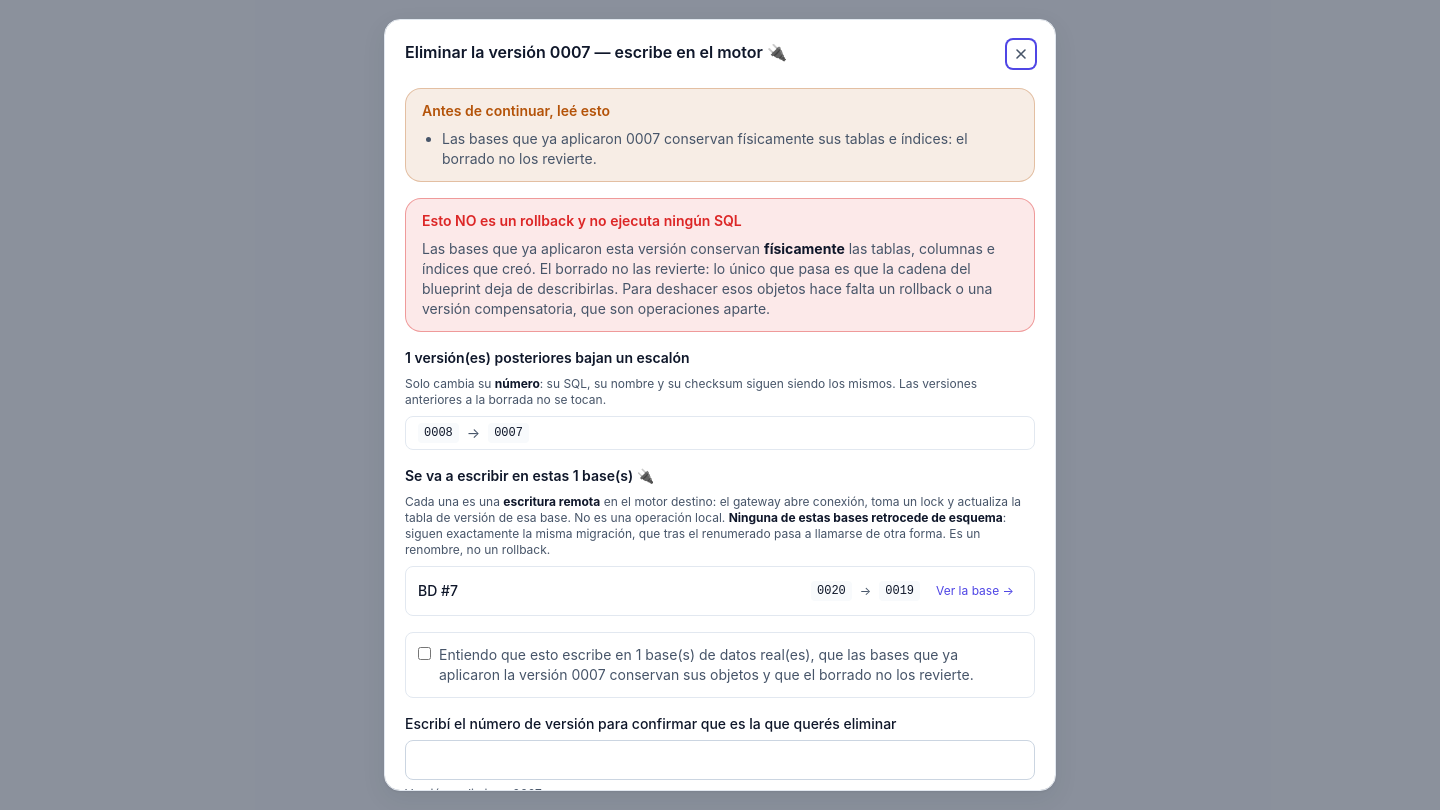
MigrationDeletePlanDialog › un 422 sin `code` dice que el parque cambió, sin culpar al operador
Click the checkbox at (424, 654), box [418,647,431,660]
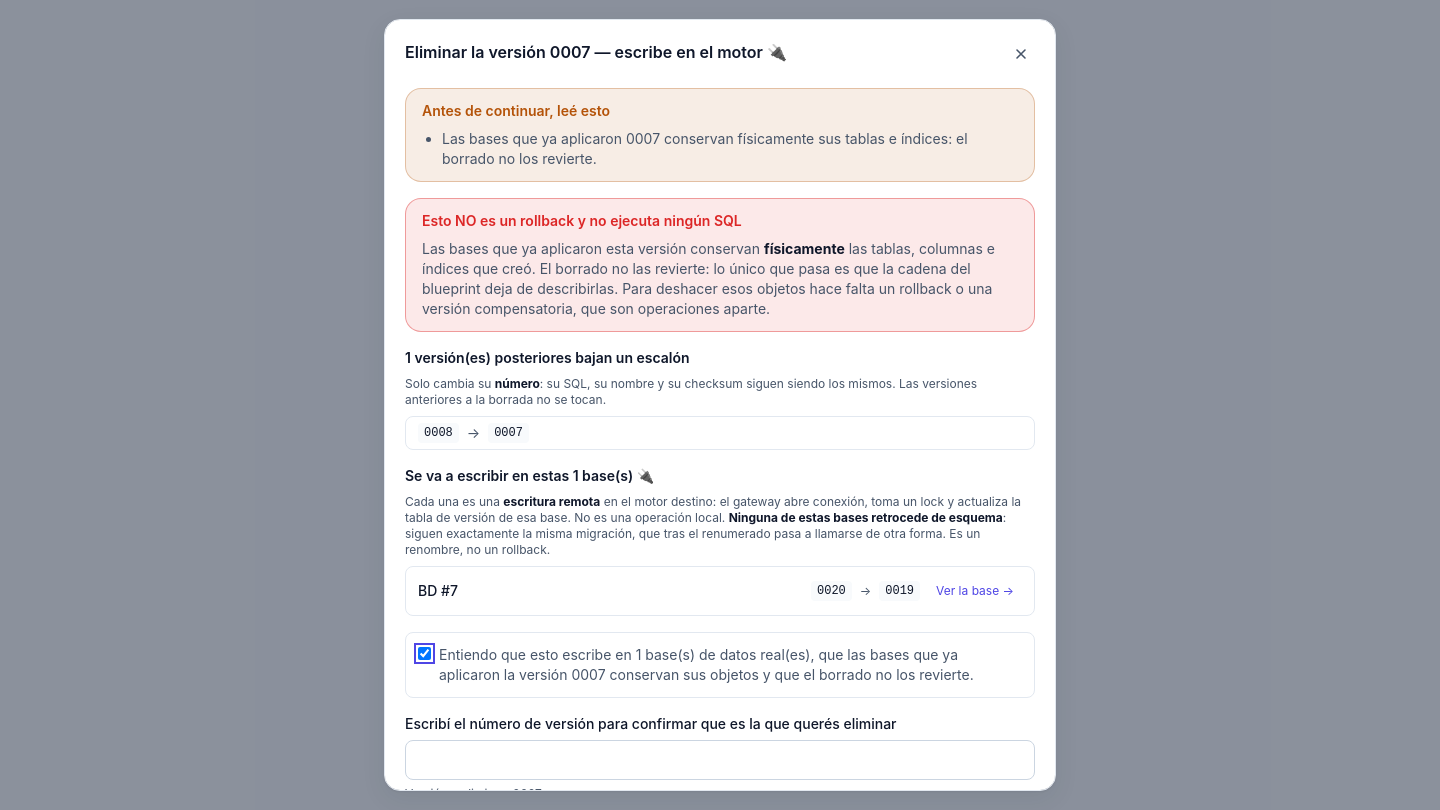
Type "0007" into the field labelled "Escribí el número de versión" at (720, 760), box [405,740,1035,780]
(page scrolled)
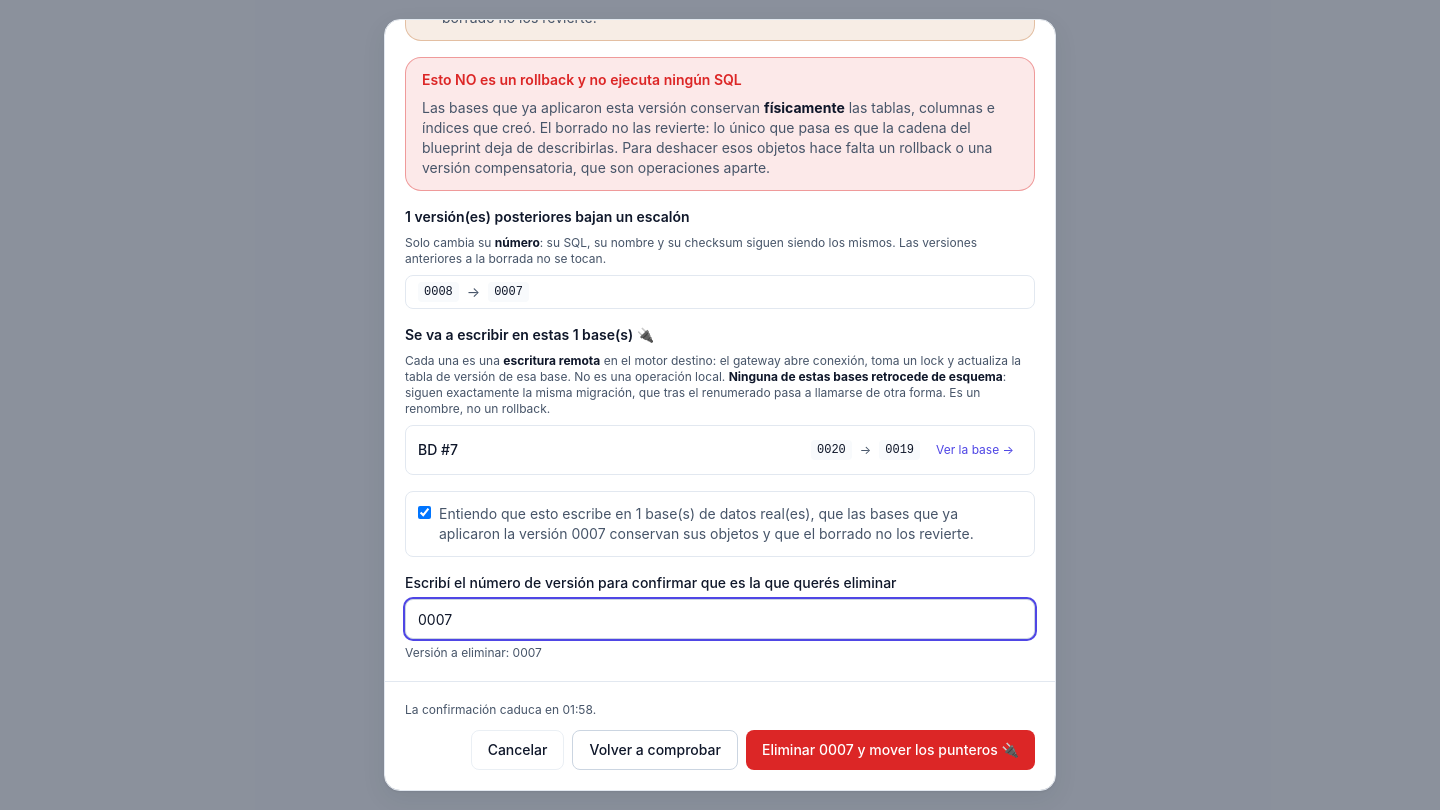
Click the button "Eliminar 0007 y mover los punteros 🔌" at (890, 750), box [746,730,1035,770]
(page scrolled)
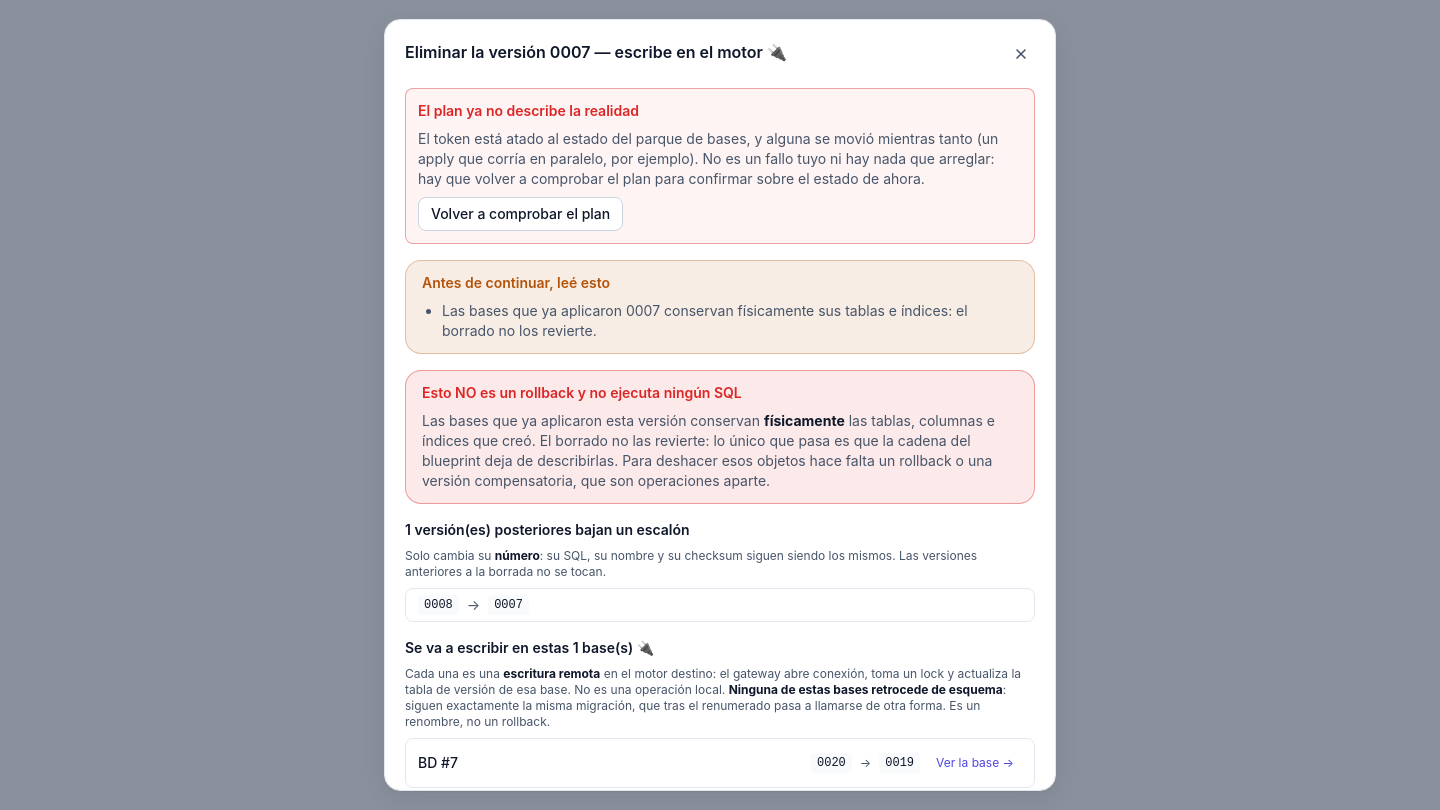
Expected: the text "El plan ya no describe la realidad" is shown, [418,102,639,119]
Expected: the text "No es un fallo tuyo" is shown, [418,130,998,187]
